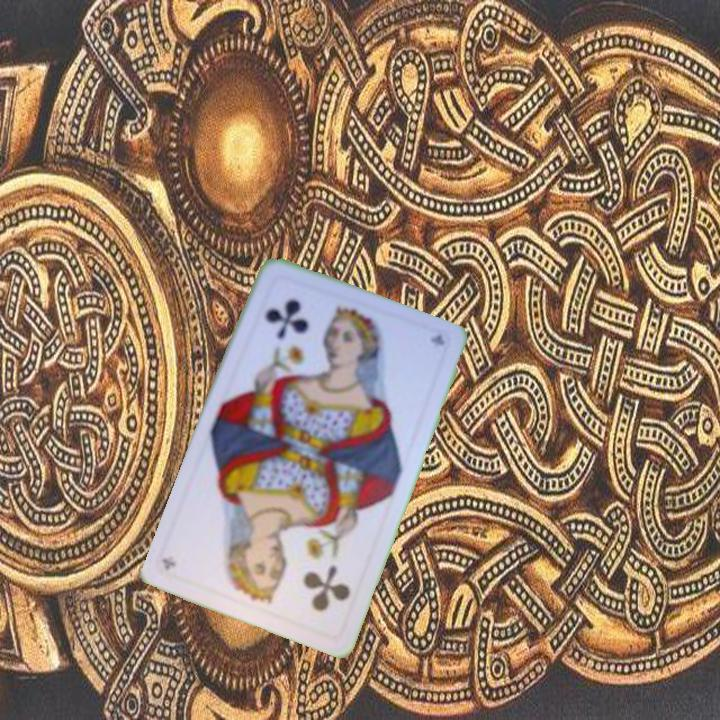c_q.png: (242, 272, 364, 386), (246, 526, 368, 640)
